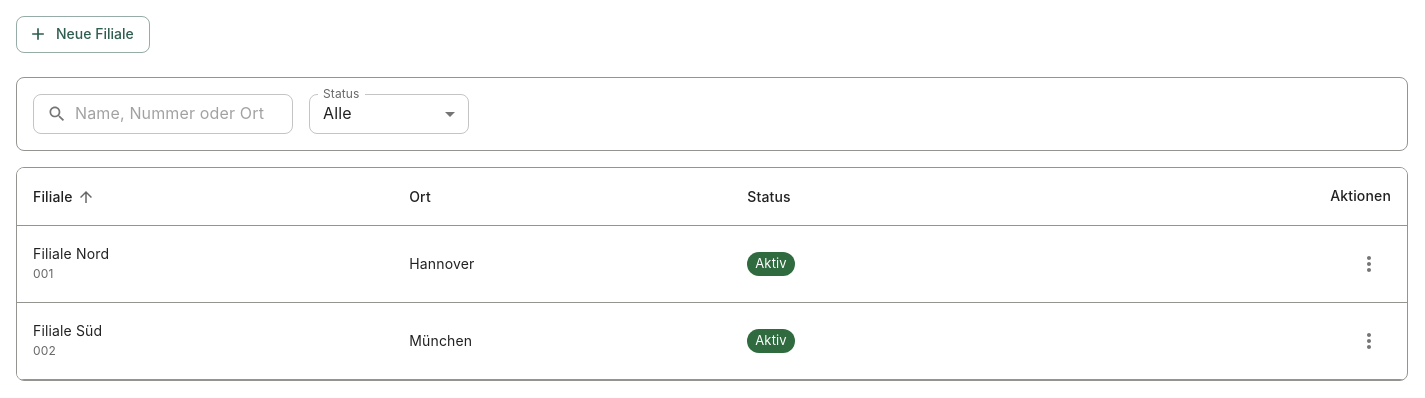
it: BranchMasterDataView › search narrows the visible branches by name, number or city, and clearing restores them (N26)
The width and height of the screenshot is (1425, 398).
expect the text "Filiale Nord" is shown: met, box [33,245,109,262]
expect the text "Filiale Süd" is shown: met, box [33,322,102,339]
Type "München" into the field named "Filiale suchen" at (184, 114), box [75,94,293,134]
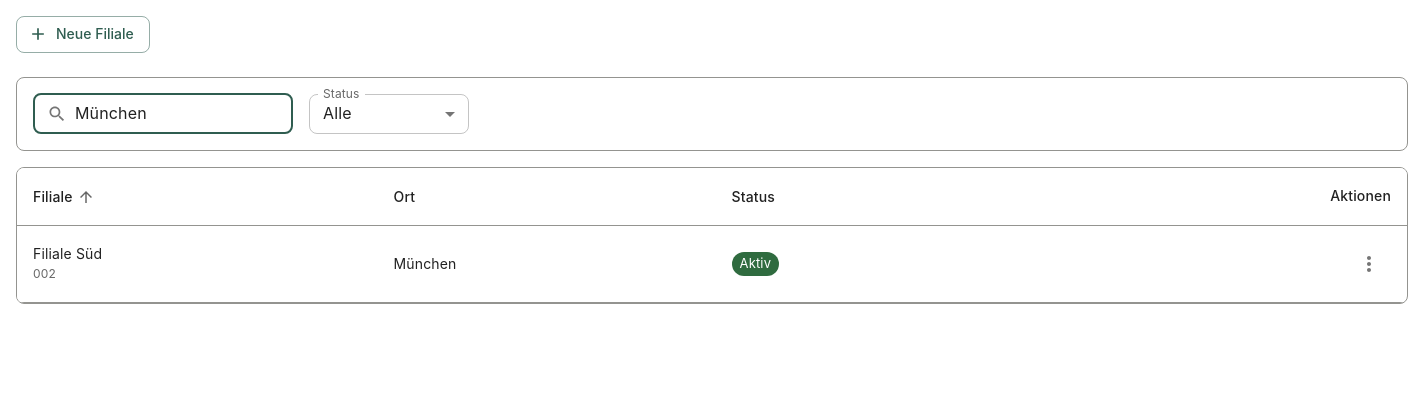
expect the text "Filiale Süd" is shown: met, box [33,245,102,262]
expect the text "Filiale Nord" is gone: met
Clear the field named "Filiale suchen" at (184, 114), box [75,94,293,134]
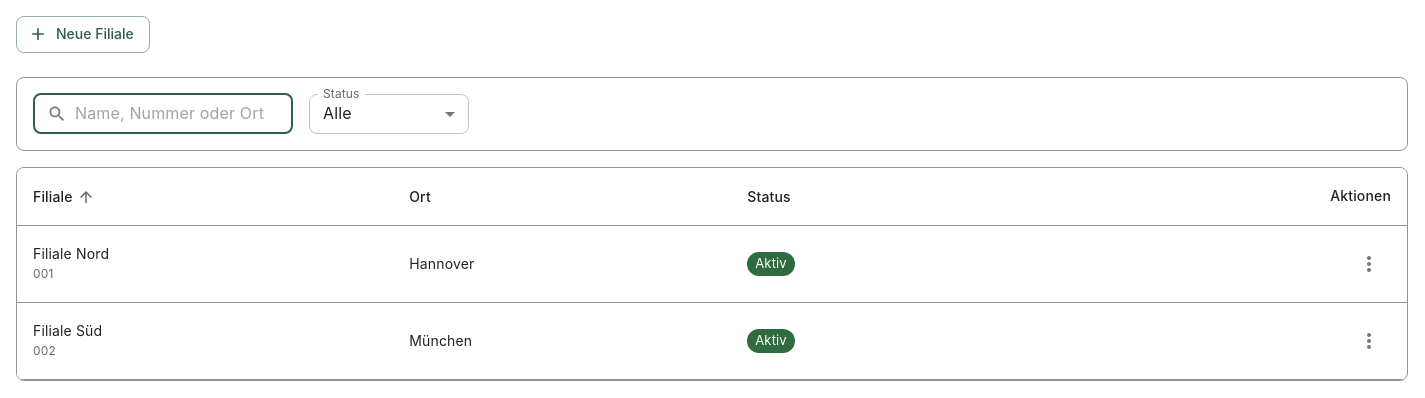
expect the text "Filiale Süd" is shown: met, box [33,322,102,339]
expect the text "Filiale Nord" is shown: met, box [33,245,109,262]
